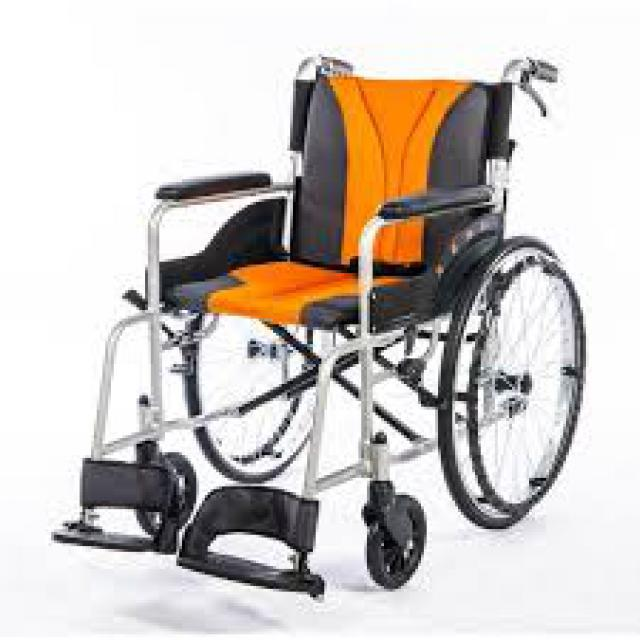wheelchair: (43, 32, 612, 618)
